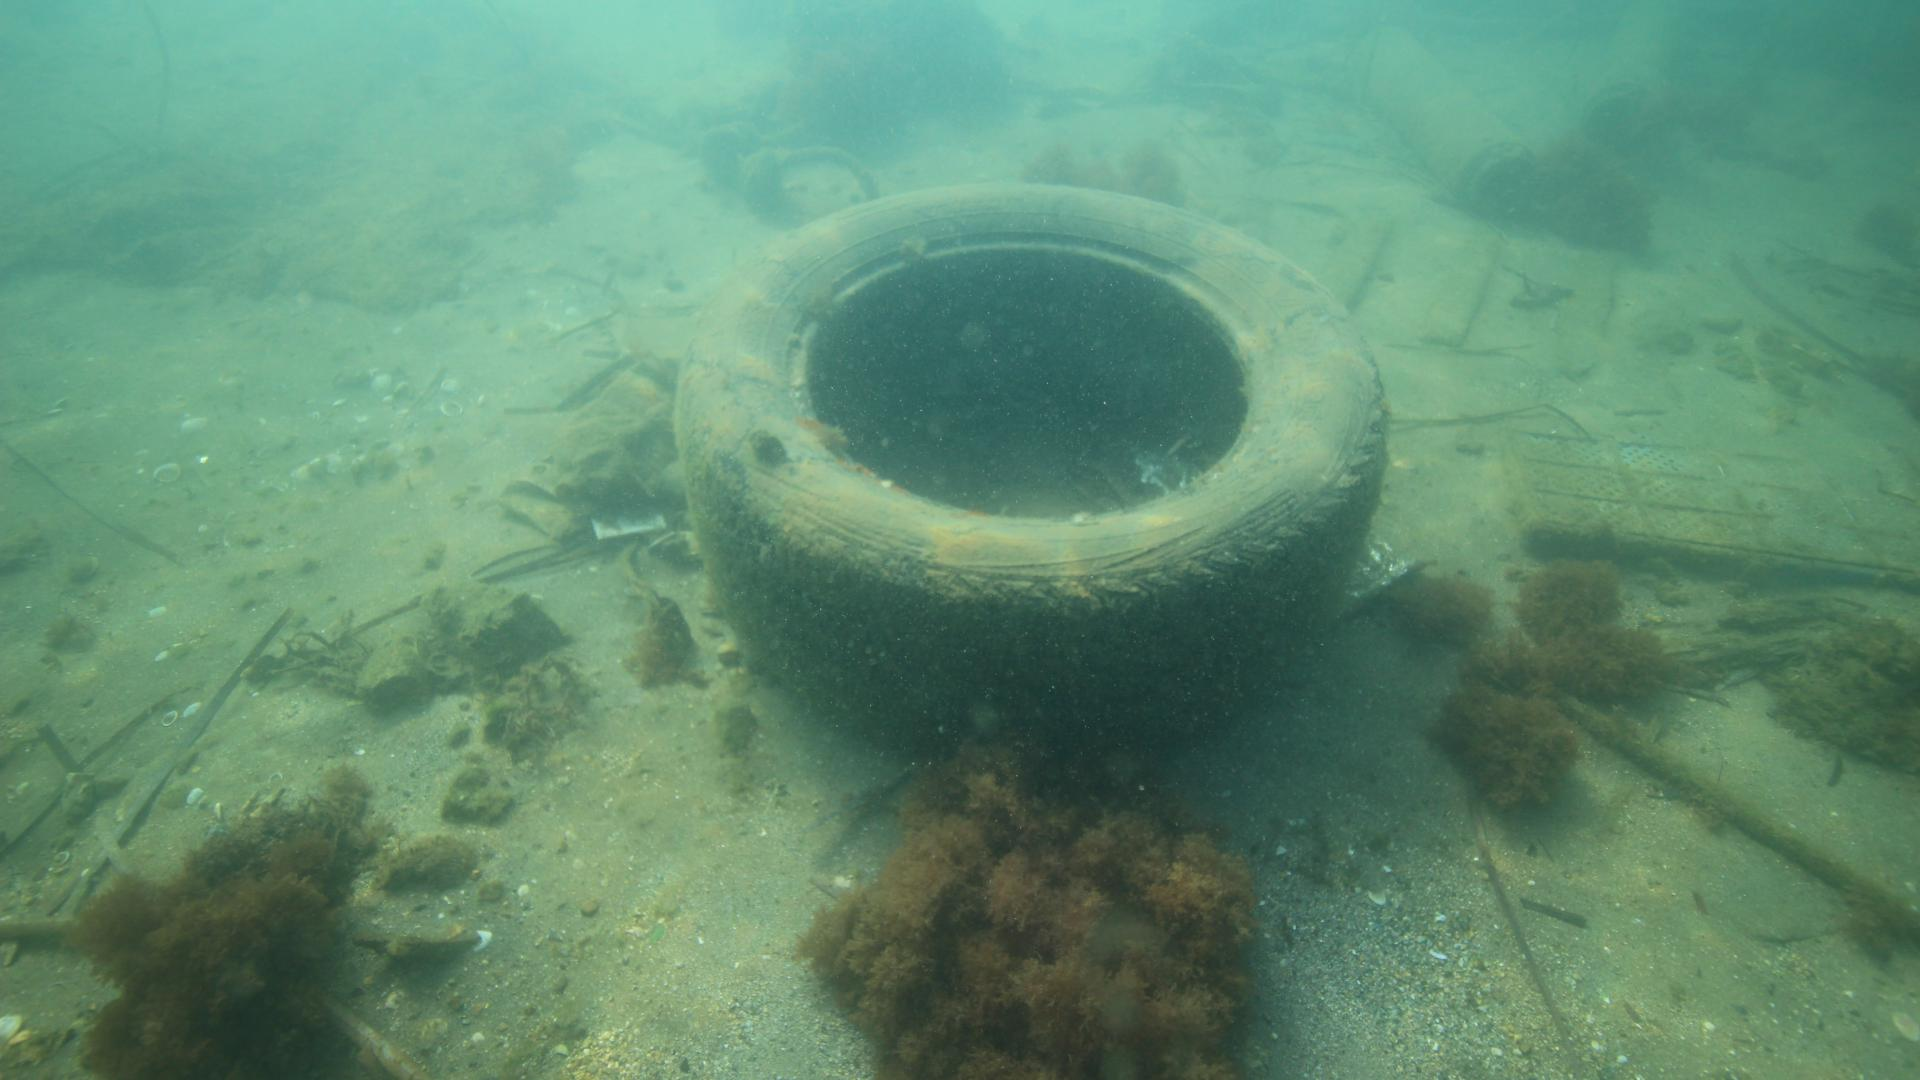tire: (670, 173, 1393, 766)
